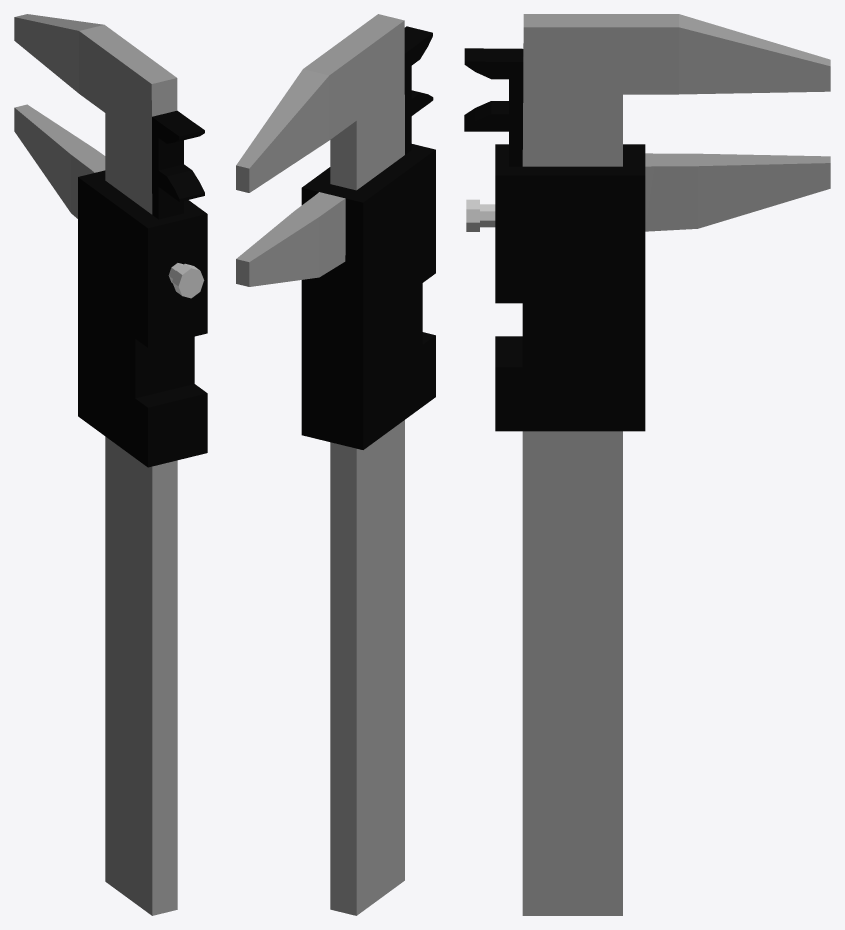
The model's file is vernier01.gltf.
The picture shows the model from 3 angles, left to right: view 1: azimuth 30°, elevation 25°; view 2: azimuth 150°, elevation 25°; view 3: azimuth 270°, elevation 25°; orthographic projection. The views are drawn at different scales.
Parts seen in each view (by area): view 1: Cube; view 2: Cube; view 3: Cube.
Boxes of the visible parts, <box> form: Cube: <box>14,14,207,915</box>; Cube: <box>236,14,435,915</box>; Cube: <box>464,14,830,915</box>.
Size of the model in its own units: 0.013 by 0.1739 by 0.065.
1 material, 1 textured.
